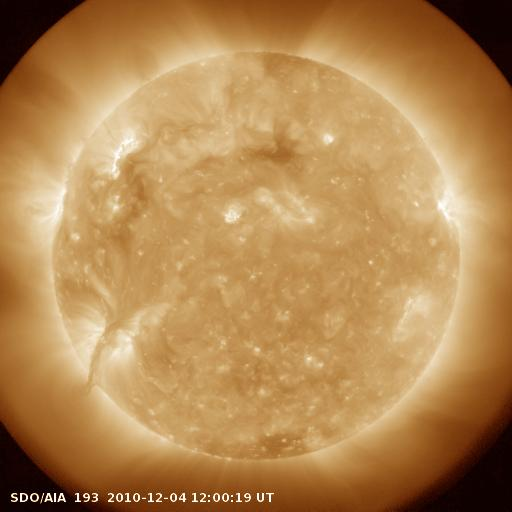coronal_hole: (248, 427, 320, 461), (252, 131, 299, 165)
